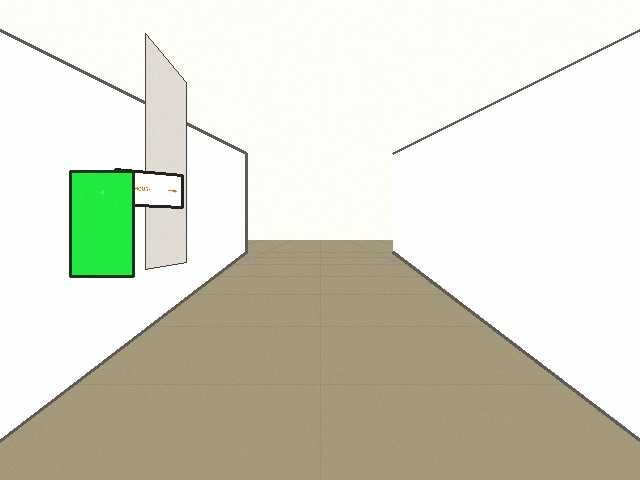charging_station: (70, 171, 133, 276)
directional_sign: (115, 169, 182, 207)
